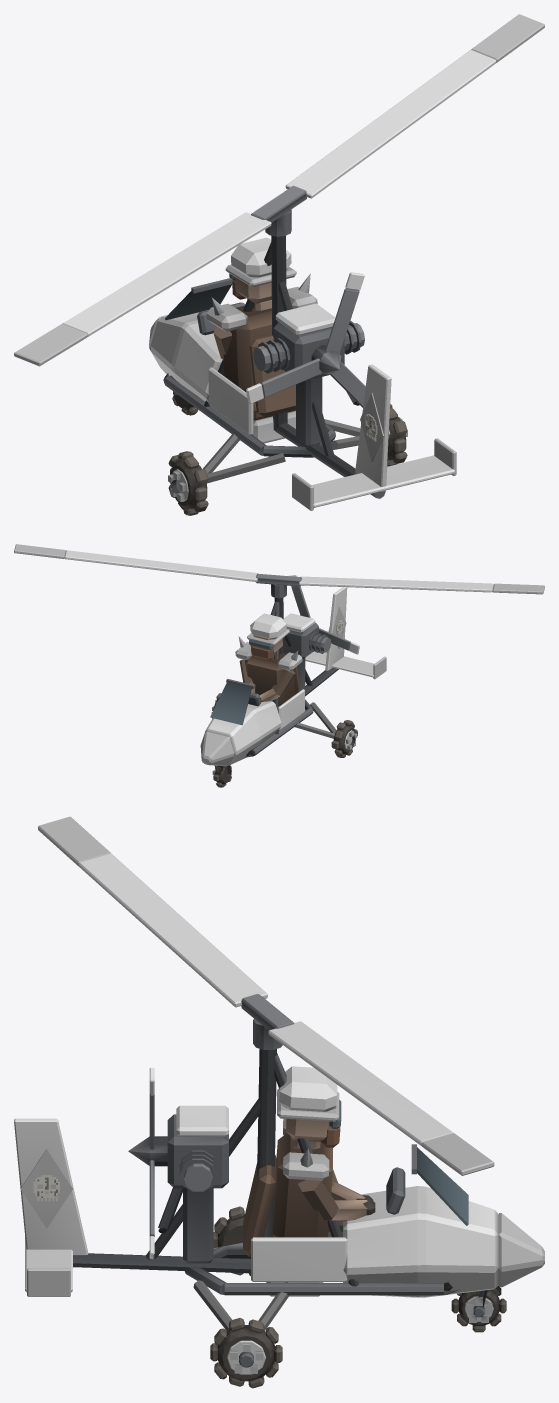
File: wasteland_gyrocopter_story_064_unsplit.glb
The picture shows the model from 3 angles, top to bottom: view 1: azimuth 30°, elevation 25°; view 2: azimuth 150°, elevation 25°; view 3: azimuth 270°, elevation 25°; orthographic projection. The views are drawn at different scales.
Visible parts, largest first — view 1: Accent, Neutral; view 2: Accent, Neutral; view 3: Accent, Neutral.
Part boxes in pixels (bbox=[...]): Accent: bbox=[14, 14, 544, 510]; Neutral: bbox=[163, 185, 407, 515]; Accent: bbox=[14, 544, 544, 766]; Neutral: bbox=[210, 573, 357, 787]; Accent: bbox=[14, 816, 544, 1374]; Neutral: bbox=[33, 994, 506, 1388].
Bounding box in the file's own units: 4.23 × 1.8 × 2.42.
